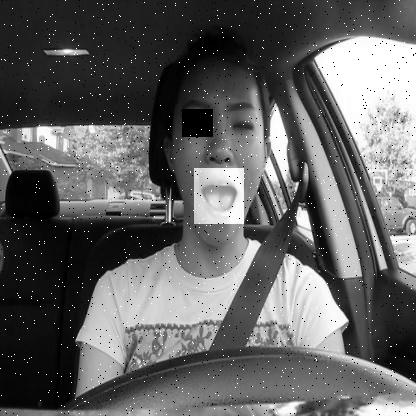seatbelt: (140, 13, 292, 348)
